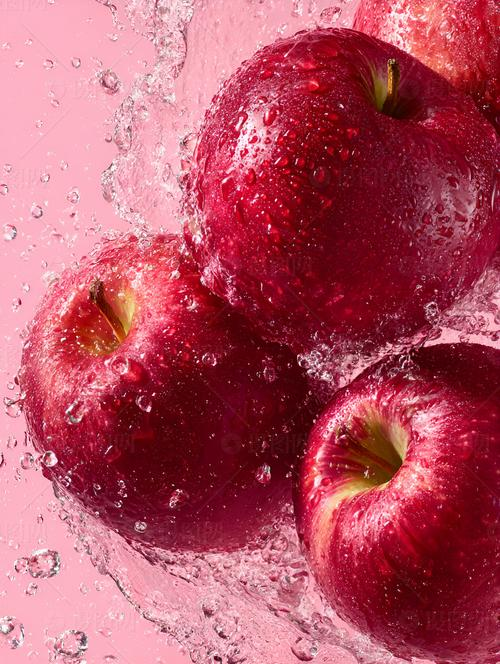ripe: (181, 24, 495, 359), (2, 225, 307, 566), (288, 335, 500, 664)
